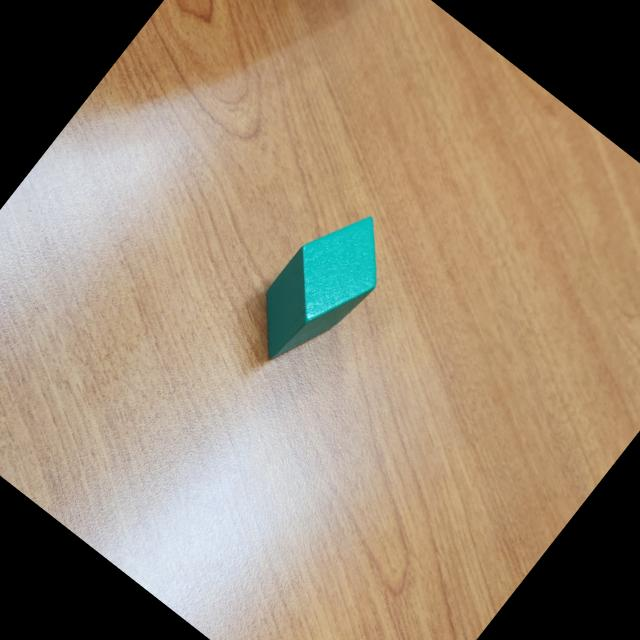green: (231, 190, 410, 386)
